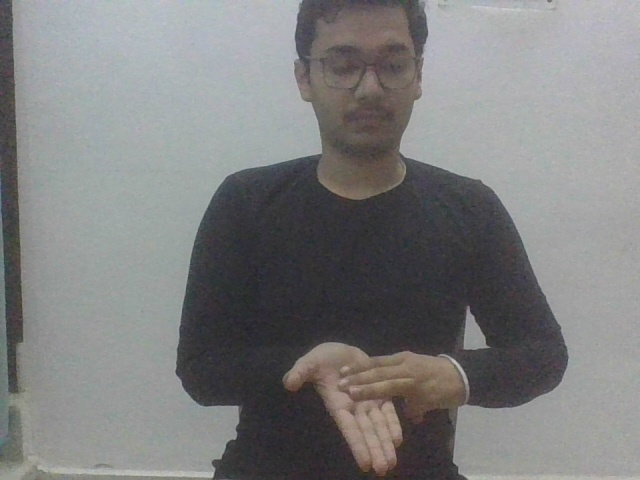M: (277, 338, 471, 478)
